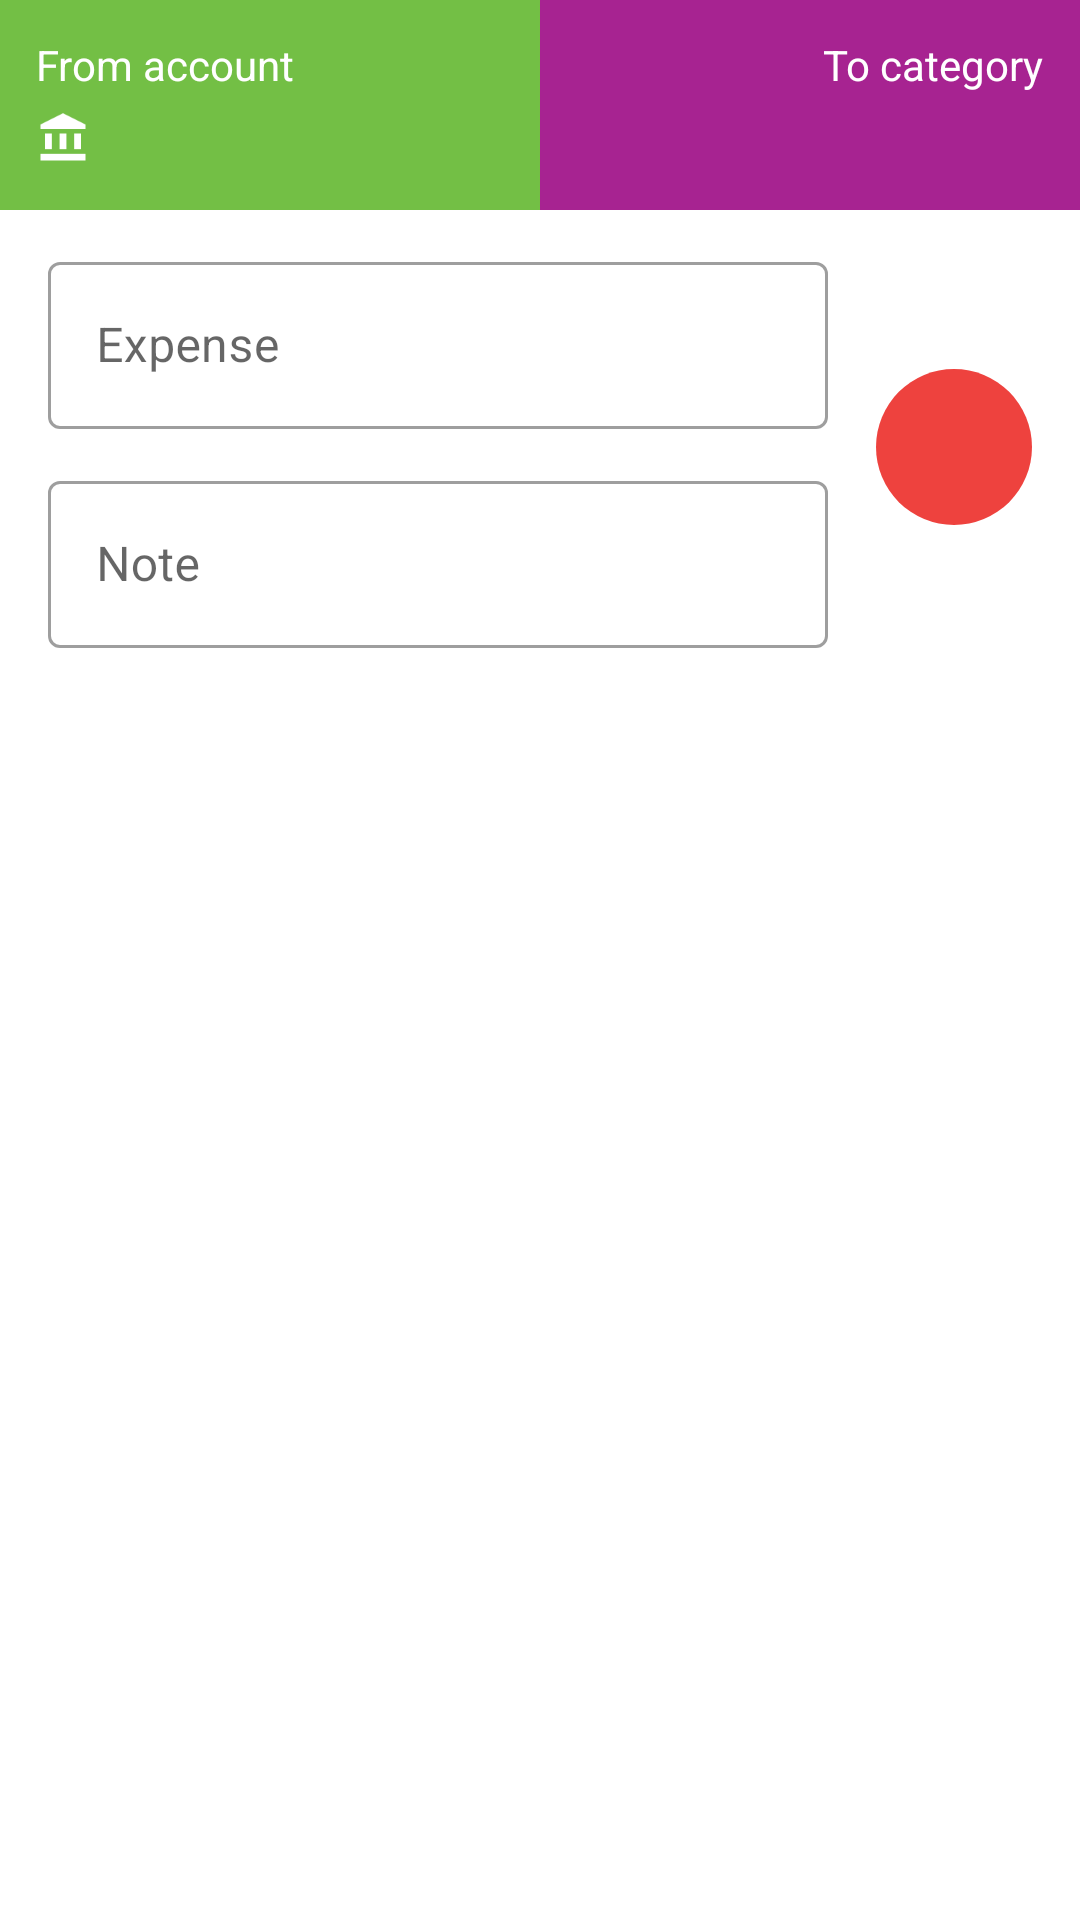

Point at icon controls on the screen. Image size 1080x1920, points as (x=x, y=y).
bank: (x=63, y=137)
